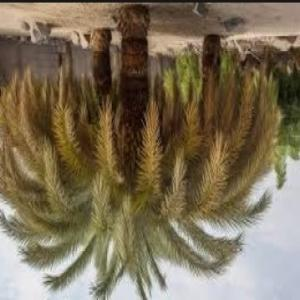palm tree: (0, 9, 286, 299)
